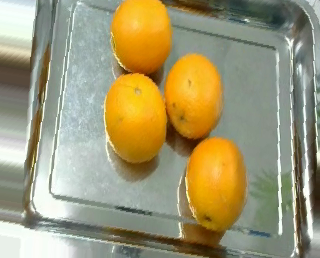Orange: (184, 137, 247, 229), (104, 72, 168, 162), (164, 53, 223, 138), (110, 1, 173, 74)
